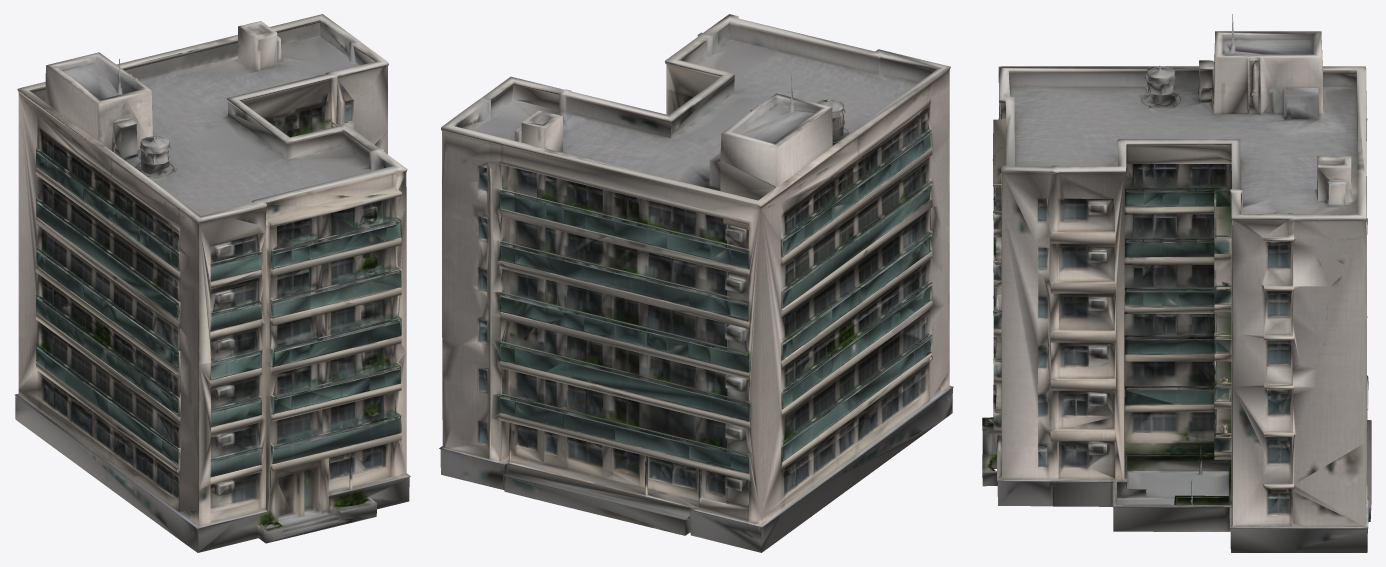
Rendered from passiona-harbour-steps-residences.glb.
The picture shows the model from 3 angles, left to right: view 1: azimuth 30°, elevation 25°; view 2: azimuth 150°, elevation 25°; view 3: azimuth 270°, elevation 25°; orthographic projection. The views are drawn at different scales.
Parts seen in each view (by area): view 1: node_0; view 2: node_0; view 3: node_0.
Part boxes in pixels (x1,y1,x2,y2): node_0: (14,14,410,552); node_0: (439,14,953,552); node_0: (982,14,1371,552).
Bounding box in the file's own units: 0.633 × 0.7789 × 0.6768.
1 material, 1 textured.
